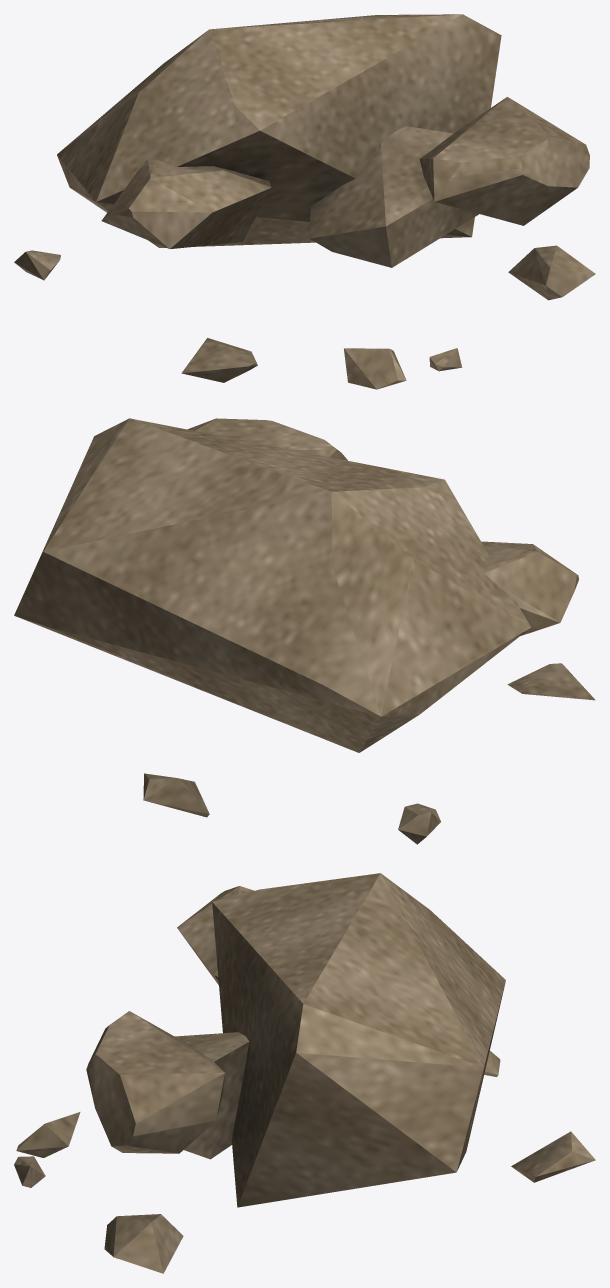
Rendered from boulder_8.glb.
The picture shows the model from 3 angles, top to bottom: view 1: azimuth 30°, elevation 25°; view 2: azimuth 150°, elevation 25°; view 3: azimuth 270°, elevation 25°; orthographic projection. The views are drawn at different scales.
Parts seen in each view (by area): view 1: boulder_8_c0; view 2: boulder_8_c0; view 3: boulder_8_c0.
Boxes of the visible parts, box(x1,y1,x2,y2) form: boulder_8_c0: box(14, 14, 595, 389); boulder_8_c0: box(14, 418, 595, 844); boulder_8_c0: box(14, 873, 595, 1273).
Size of the model in its own units: 3.1 by 1.74 by 3.34.
Materials: 1 (1 with a texture image).
